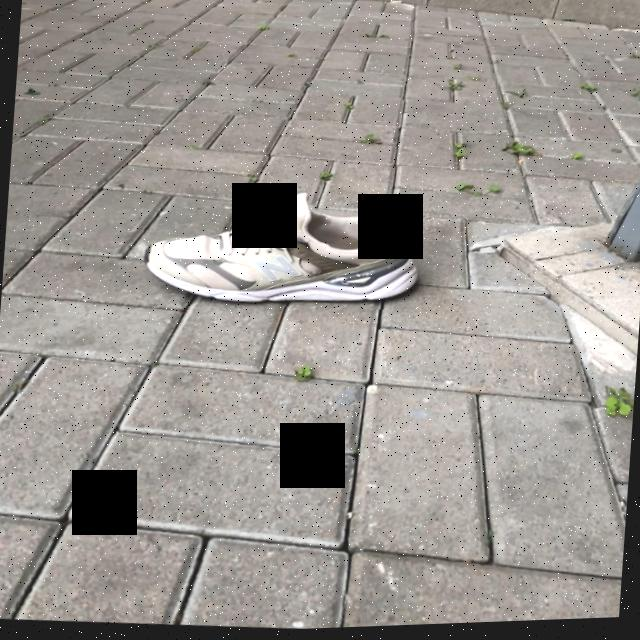shoe: (145, 213, 419, 308)
